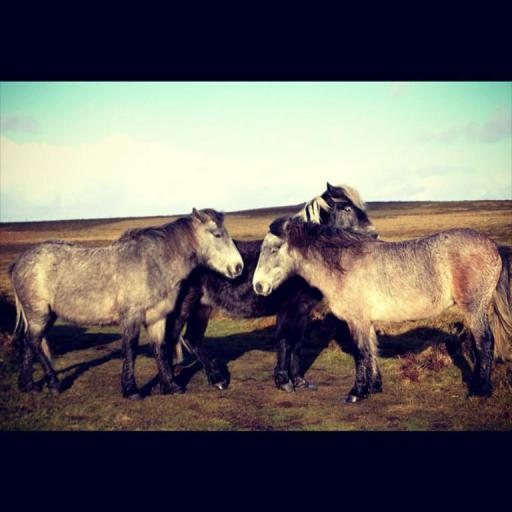horse: (254, 213, 512, 400), (157, 180, 379, 392), (8, 204, 245, 399)
